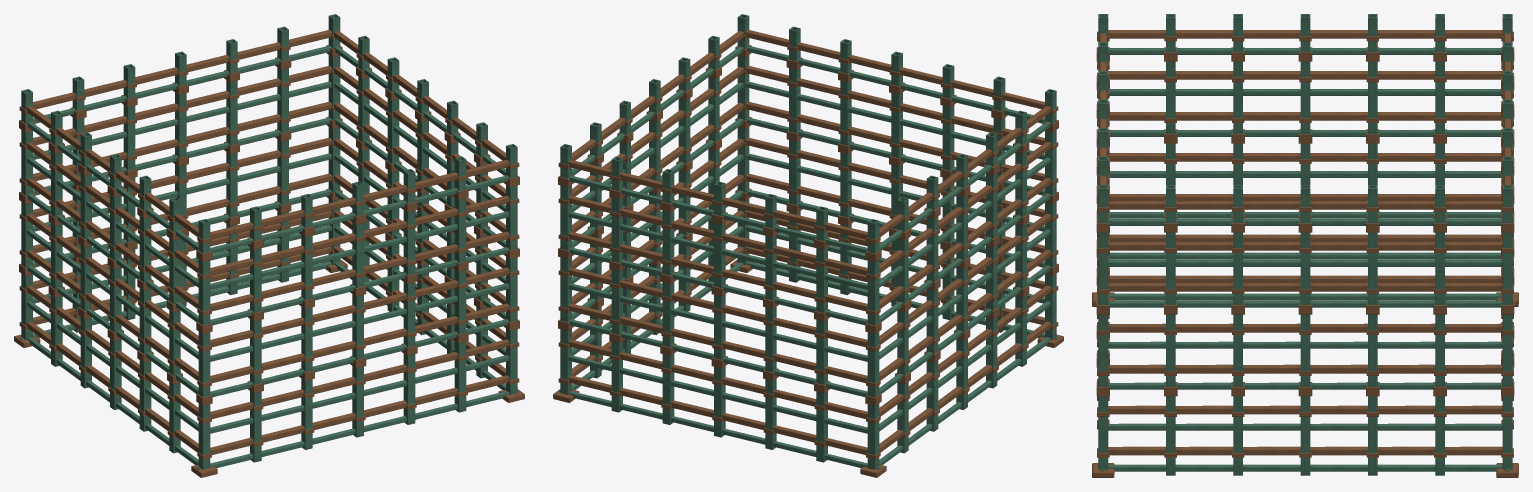
The picture shows the model from 3 angles, left to right: view 1: azimuth 30°, elevation 25°; view 2: azimuth 150°, elevation 25°; view 3: azimuth 270°, elevation 25°; orthographic projection. The views are drawn at different scales.
Parts seen in each view (by area): view 1: Tier 0 side 0 post 5, Tier 0 side 0 post 0, Tier 0 side 0 post 4, Tier 2 side 0 post 0, Tier 1 side 0 post 0, Tier 0 side 0 post 1, Tier 0 side 0 post 2, Tier 0 side 0 post 3, Tier 2 side 0 post 4, Tier 2 side 2 post 4, Tier 1 side 0 post 4, Tier 2 side 0 post 5 (+38 smaller); view 2: Tier 0 side 2 post 2, Tier 0 side 3 post 0, Tier 2 side 3 post 0, Tier 1 side 3 post 0, Tier 0 side 2 post 1, Tier 0 side 2 post 5, Tier 0 side 2 post 4, Tier 0 side 2 post 3, Tier 2 side 2 post 2, Tier 1 side 2 post 2, Tier 2 side 0 post 2, Tier 0 side 3 post 2 (+38 smaller); view 3: Tier 0 side 1 post 3, Tier 2 side 3 post 3, Tier 1 side 1 post 0, Tier 1 side 2 post 0, Tier 2 side 1 post 0, Tier 2 side 2 post 0, Tier 0 side 1 post 0, Tier 0 side 2 post 0, Tier 0 side 1 post 1, Tier 0 side 1 post 2, Tier 0 side 1 post 4, Tier 0 side 1 post 5 (+110 smaller).
Boxes of the visible parts, <box> form: Tier 0 side 0 post 5: <box>454,341,466,412</box>; Tier 0 side 0 post 0: <box>198,403,210,469</box>; Tier 0 side 0 post 4: <box>403,354,415,424</box>; Tier 2 side 0 post 0: <box>198,260,210,325</box>; Tier 1 side 0 post 0: <box>198,332,210,397</box>; Tier 0 side 0 post 1: <box>250,391,261,462</box>; Tier 0 side 0 post 2: <box>301,378,312,449</box>; Tier 0 side 0 post 3: <box>352,366,363,437</box>; Tier 2 side 0 post 4: <box>403,210,415,275</box>; Tier 2 side 2 post 4: <box>123,105,135,170</box>; Tier 1 side 0 post 4: <box>403,282,415,347</box>; Tier 2 side 0 post 5: <box>454,197,466,262</box>; Tier 0 side 2 post 2: <box>662,354,674,424</box>; Tier 0 side 3 post 0: <box>867,403,879,469</box>; Tier 2 side 3 post 0: <box>867,260,879,325</box>; Tier 1 side 3 post 0: <box>867,331,879,397</box>; Tier 0 side 2 post 1: <box>611,341,622,412</box>; Tier 0 side 2 post 5: <box>816,391,827,462</box>; Tier 0 side 2 post 4: <box>765,378,776,449</box>; Tier 0 side 2 post 3: <box>714,366,725,437</box>; Tier 2 side 2 post 2: <box>662,210,674,275</box>; Tier 1 side 2 post 2: <box>662,282,674,347</box>; Tier 2 side 0 post 2: <box>942,105,954,170</box>; Tier 0 side 3 post 2: <box>926,360,938,431</box>; Tier 0 side 1 post 3: <box>1300,396,1310,475</box>; Tier 2 side 3 post 3: <box>1300,61,1310,134</box>; Tier 1 side 1 post 0: <box>1098,314,1108,386</box>; Tier 1 side 2 post 0: <box>1502,314,1512,386</box>; Tier 2 side 1 post 0: <box>1098,232,1108,304</box>; Tier 2 side 2 post 0: <box>1502,232,1512,304</box>; Tier 0 side 1 post 0: <box>1098,396,1108,469</box>; Tier 0 side 2 post 0: <box>1502,396,1512,469</box>; Tier 0 side 1 post 1: <box>1166,396,1175,475</box>; Tier 0 side 1 post 2: <box>1233,396,1242,475</box>; Tier 0 side 1 post 4: <box>1368,396,1377,475</box>; Tier 0 side 1 post 5: <box>1435,396,1444,475</box>.
Bounding box in the file's own units: 2.85 × 2.11 × 2.85.
2 materials, 2 textured.
